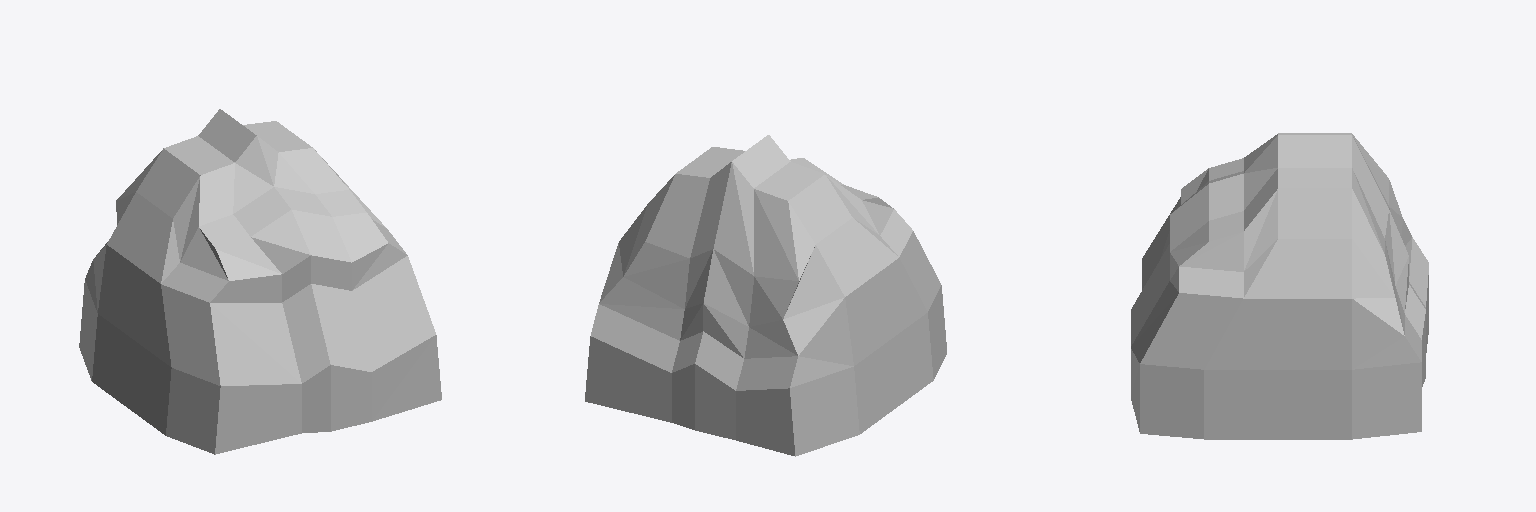
File: Rock.obj
3 renders of one model, left to right at view 1: azimuth 30°, elevation 25°; view 2: azimuth 150°, elevation 25°; view 3: azimuth 270°, elevation 25°, orthographic.
Visible parts, largest first — view 1: pCube5; view 2: pCube5; view 3: pCube5.
Boxes of the visible parts, x1=… form: pCube5: x1=79, y1=109, x2=441, y2=454; pCube5: x1=585, y1=135, x2=946, y2=456; pCube5: x1=1131, y1=133, x2=1428, y2=439.
Bounding box in the file's own units: 1 × 0.9048 × 1.01.